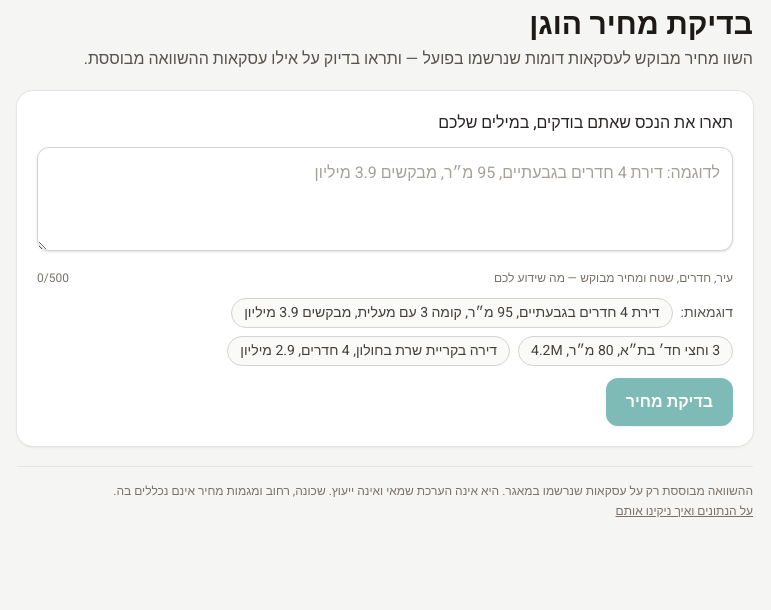
Test case: App › shows the server’s Hebrew message on 429
Type "דירה" into the text box labelled "תארו את הנכס שאתם בודקים, במילים שלכם" at (385, 199), box [37,147,733,251]
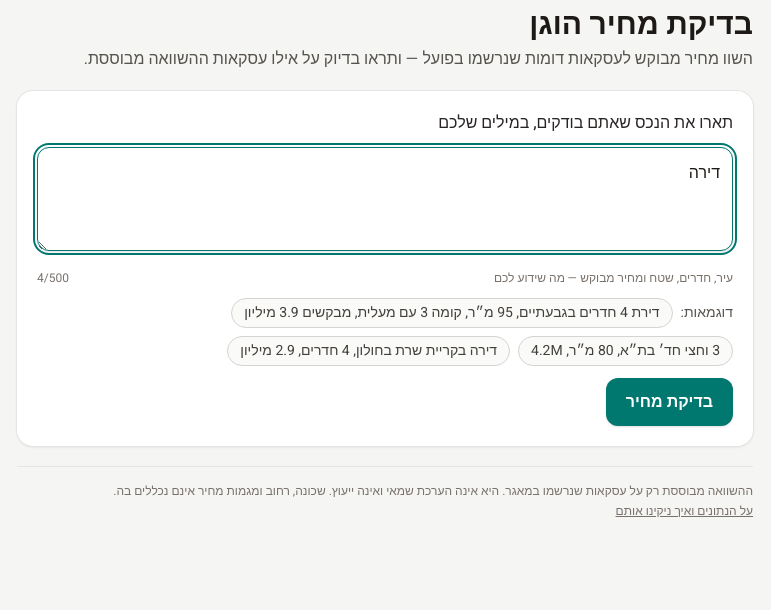
Click the button "בדיקת מחיר" at (669, 402), box [606,378,733,426]
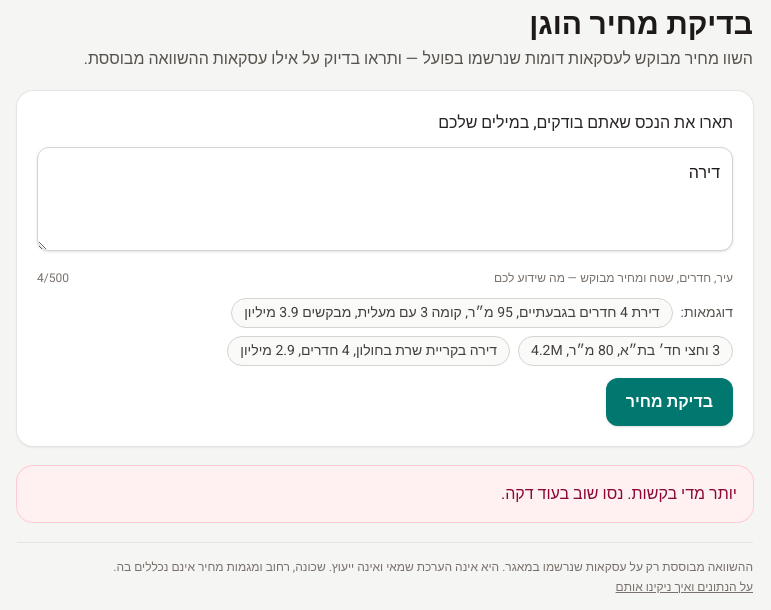
expect the message shows "יותר מדי בקשות": met, box [501,482,737,506]
